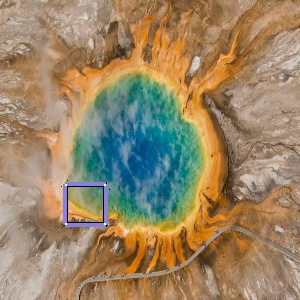square: (62, 180, 110, 228)
